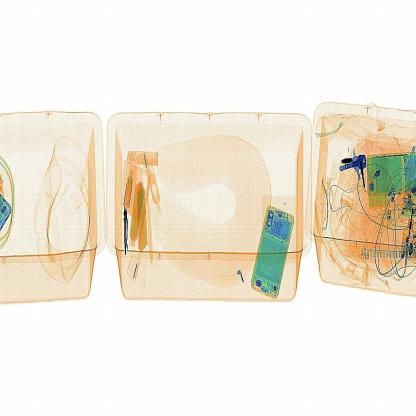knife: (117, 202, 139, 262)
